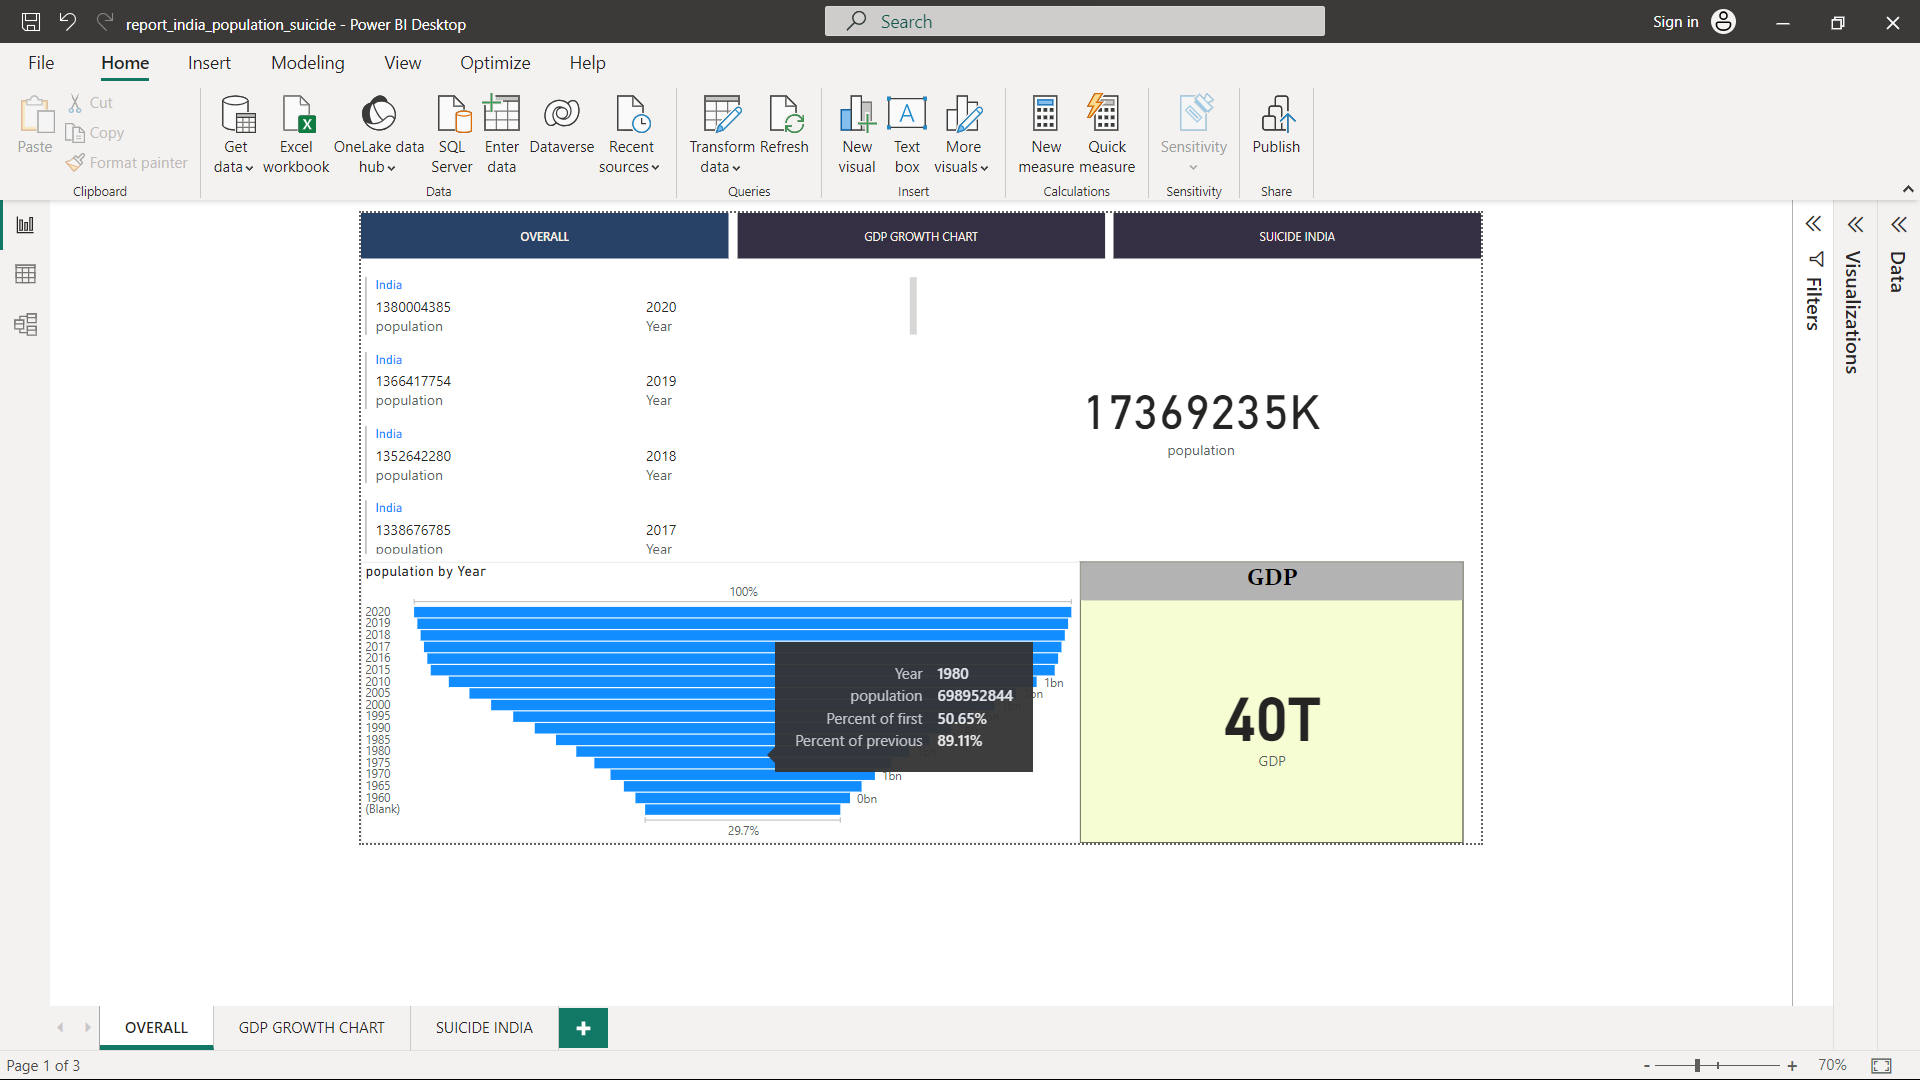

What the dashboard file says about the page in this screenshot:
{"tool":"powerbi","page":{"name":"OVERALL ","canvas":[1280,720],"ordinal":0},"visuals":[{"type":"pageNavigator","box":[0,0,1280,52.9],"z":0},{"type":"card","title":"GDP ","fields":{"Values":["Key_meaures.GDP"]},"box":[821.4,399.2,438.6,321.4],"z":1000},{"type":"multiRowCard","fields":{"Values":["Key_meaures.population","india_population_dup.Year","india_gdp.Country"]},"box":[0,68.6,640,325.7],"z":2000},{"type":"funnel","fields":{"Category":["india_gdp.Year"],"Y":["Key_meaures.population"]},"box":[0,398.6,821.4,321.4],"z":3001},{"type":"card","fields":{"Values":["Key_meaures.population"]},"box":[640,69,640,326],"z":3002}]}

Visuals, with their boxes on the page's 1280x720 design canvas (x1, y1, x2, y2). These are canvas units, not pixel positions in the 1920x1080 screenshot, which may show the page scaled, cropped or inside an application window:
pageNavigator: [left=0, top=0, right=1280, bottom=53]
"GDP " card: [left=821, top=399, right=1260, bottom=721]
multiRowCard - Key_meaures.population x india_population_dup.Year: [left=0, top=69, right=640, bottom=394]
funnel - india_gdp.Year x Key_meaures.population: [left=0, top=399, right=821, bottom=720]
card - Key_meaures.population: [left=640, top=69, right=1280, bottom=395]
